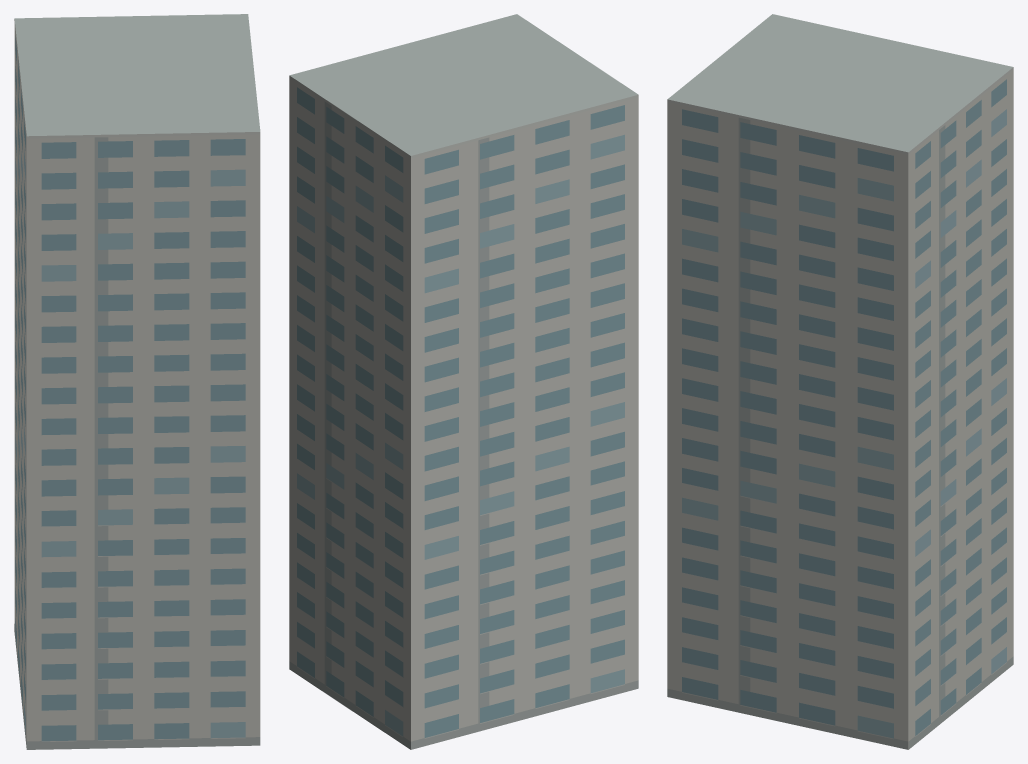
The model's file is residential-0453c31a-2dfb-4c66-ae32-011cd2fc495d.glb.
3 views of the same model, side by side, from view 1: azimuth 30°, elevation 25°; view 2: azimuth 150°, elevation 25°; view 3: azimuth 270°, elevation 25° (orthographic). The views are drawn at different scales.
Parts seen in each view (by area): view 1: residential-0453c31a-2dfb-4c66-ae32-011cd2fc495d.tmp; view 2: residential-0453c31a-2dfb-4c66-ae32-011cd2fc495d.tmp; view 3: residential-0453c31a-2dfb-4c66-ae32-011cd2fc495d.tmp.
Part boxes in pixels (box(x1,y1,x2,y2)): residential-0453c31a-2dfb-4c66-ae32-011cd2fc495d.tmp: box(14, 14, 260, 749); residential-0453c31a-2dfb-4c66-ae32-011cd2fc495d.tmp: box(289, 14, 638, 749); residential-0453c31a-2dfb-4c66-ae32-011cd2fc495d.tmp: box(667, 14, 1013, 749).
Size of the model in its own units: 29.31 by 59 by 30.99.
